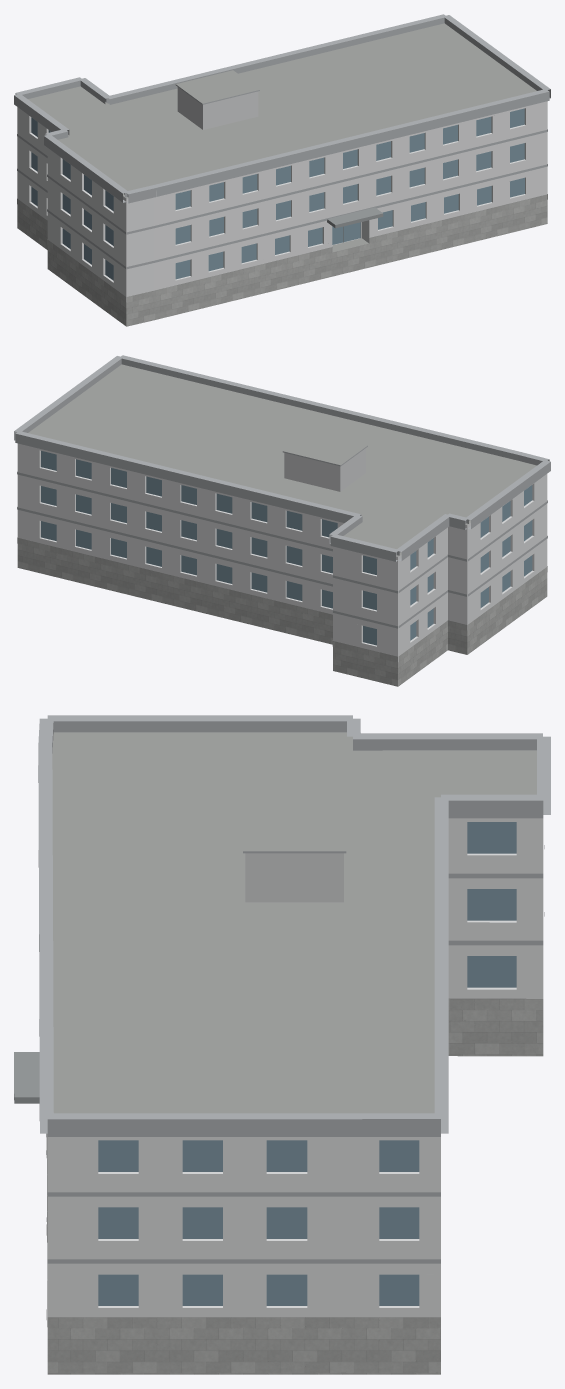
3 renders of one model, top to bottom at view 1: azimuth 30°, elevation 25°; view 2: azimuth 150°, elevation 25°; view 3: azimuth 270°, elevation 25°, orthographic. The views are drawn at different scales.
Visible parts, largest first — view 1: autoTechLabN7_5__wall, autoTechLabN7_5__roof, autoTechLabN7_5__trim, autoTechLabN7_5__base, autoTechLabN7_5__glass, autoTechLabN7_5__wall2, autoTechLabN7_5__canopy; view 2: autoTechLabN7_5__wall, autoTechLabN7_5__roof, autoTechLabN7_5__trim, autoTechLabN7_5__base, autoTechLabN7_5__glass, autoTechLabN7_5__wall2; view 3: autoTechLabN7_5__roof, autoTechLabN7_5__wall, autoTechLabN7_5__trim, autoTechLabN7_5__base, autoTechLabN7_5__glass, autoTechLabN7_5__wall2, autoTechLabN7_5__canopy.
Part boxes in pixels (box(x1,y1,x2,y2)): autoTechLabN7_5__wall: box(17, 101, 547, 302); autoTechLabN7_5__roof: box(28, 23, 536, 252); autoTechLabN7_5__trim: box(14, 14, 550, 269); autoTechLabN7_5__base: box(17, 194, 547, 326); autoTechLabN7_5__glass: box(31, 108, 524, 280); autoTechLabN7_5__wall2: box(177, 87, 258, 129); autoTechLabN7_5__canopy: box(327, 207, 383, 228); autoTechLabN7_5__wall: box(17, 443, 547, 662); autoTechLabN7_5__roof: box(28, 364, 536, 556); autoTechLabN7_5__trim: box(14, 355, 550, 628); autoTechLabN7_5__base: box(17, 537, 547, 686); autoTechLabN7_5__glass: box(41, 451, 532, 645); autoTechLabN7_5__wall2: box(284, 448, 365, 491); autoTechLabN7_5__roof: box(47, 732, 536, 1280); autoTechLabN7_5__wall: box(47, 818, 543, 1317); autoTechLabN7_5__trim: box(38, 715, 550, 1263); autoTechLabN7_5__base: box(46, 998, 543, 1374); autoTechLabN7_5__glass: box(98, 822, 516, 1305); autoTechLabN7_5__wall2: box(245, 853, 343, 902); autoTechLabN7_5__canopy: box(14, 1052, 39, 1103).
Size of the model in its own units: 46.51 by 16.1 by 26.14.
9 materials, 1 textured.
